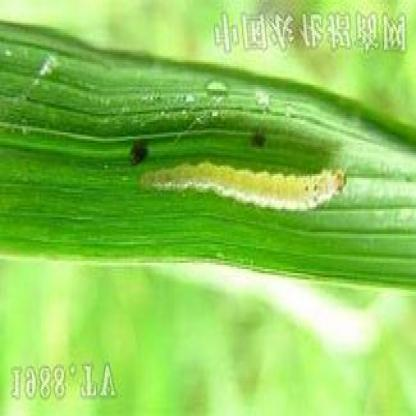leaf-folder: (138, 130, 354, 248)
